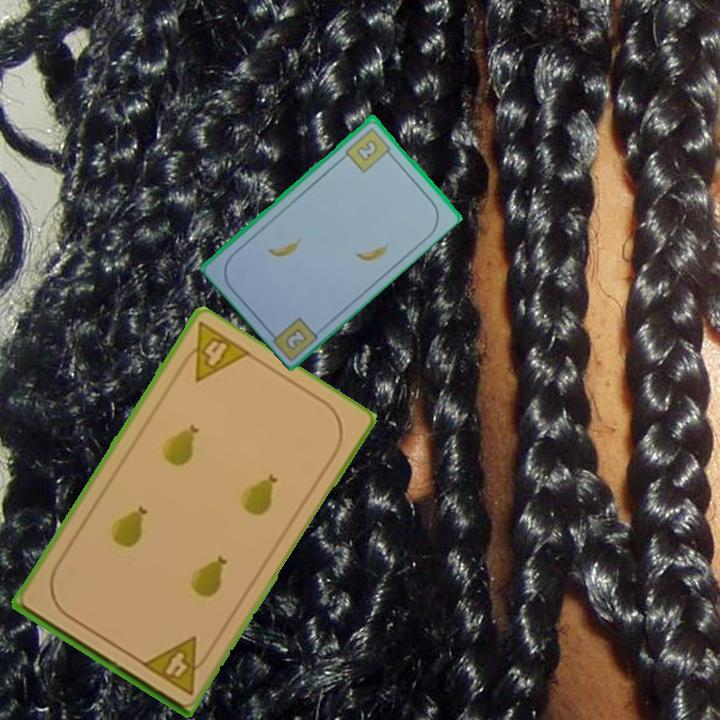2b: (342, 124, 396, 175), (282, 324, 310, 353)
4p: (172, 318, 253, 385), (138, 633, 215, 698)
